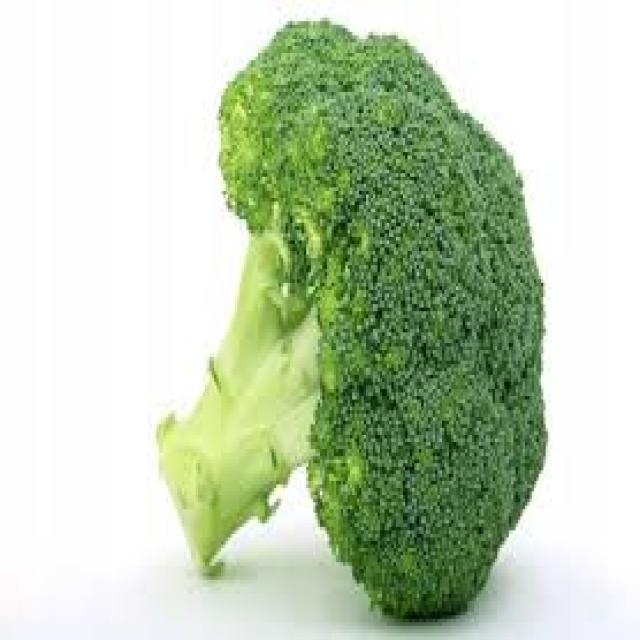broccoli: (143, 0, 559, 620)
